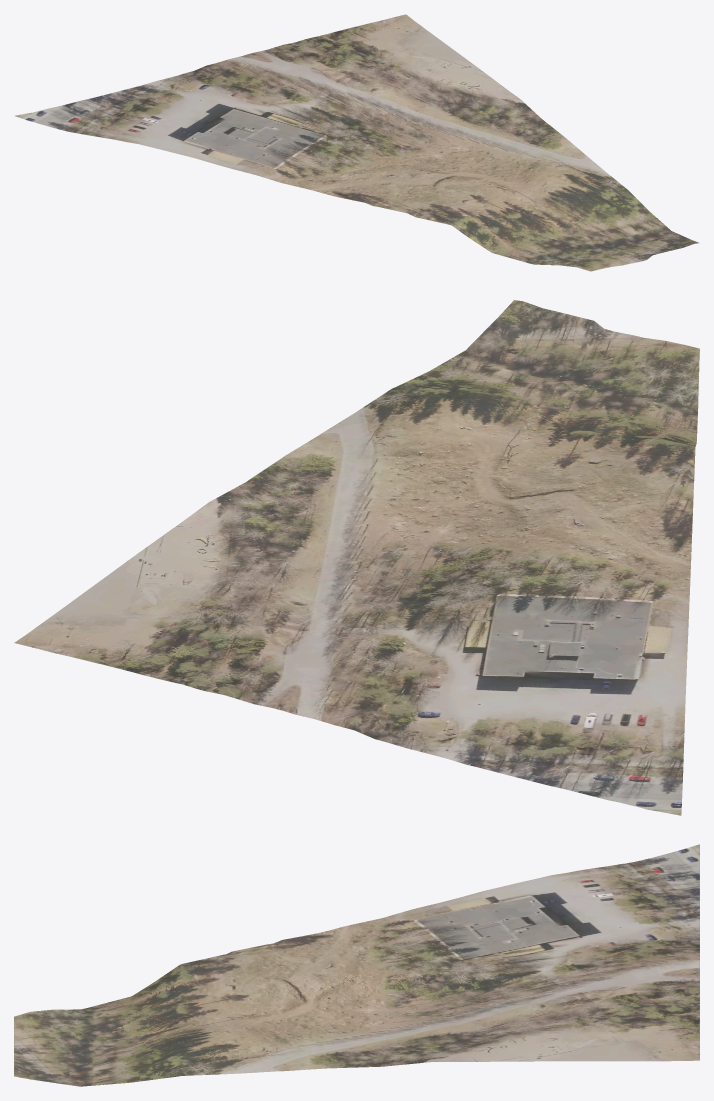
File: CM_Terrain_24491073_6815493.fbx
3 views of the same model, one above another, from view 1: azimuth 30°, elevation 25°; view 2: azimuth 150°, elevation 25°; view 3: azimuth 270°, elevation 25° (orthographic). The views are drawn at different scales.
Visible parts, largest first — view 1: CM_Terrain_24491073_6815493_LOD0; view 2: CM_Terrain_24491073_6815493_LOD0; view 3: CM_Terrain_24491073_6815493_LOD0.
Boxes of the visible parts, x1,y1,x2,y2 form: CM_Terrain_24491073_6815493_LOD0: (15,14,698,271); CM_Terrain_24491073_6815493_LOD0: (14,300,699,815); CM_Terrain_24491073_6815493_LOD0: (14,844,699,1086).
Size of what is drawn, in the model's own units: 158 by 9.74 by 205.
